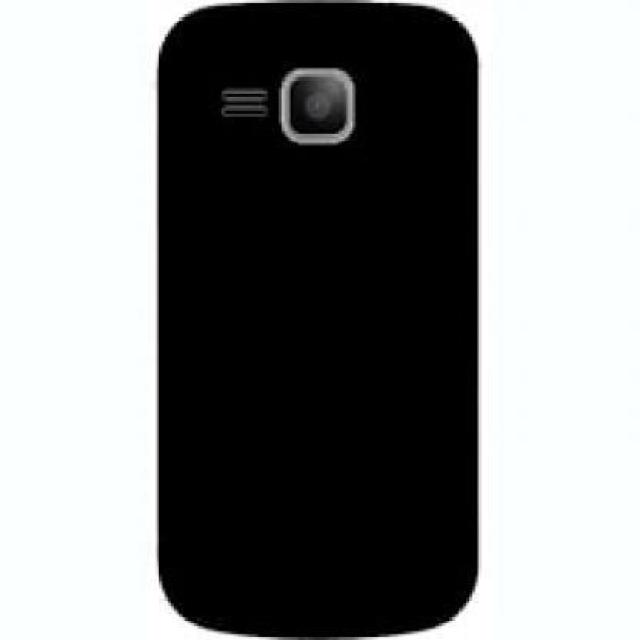mobile: (155, 3, 480, 637)
